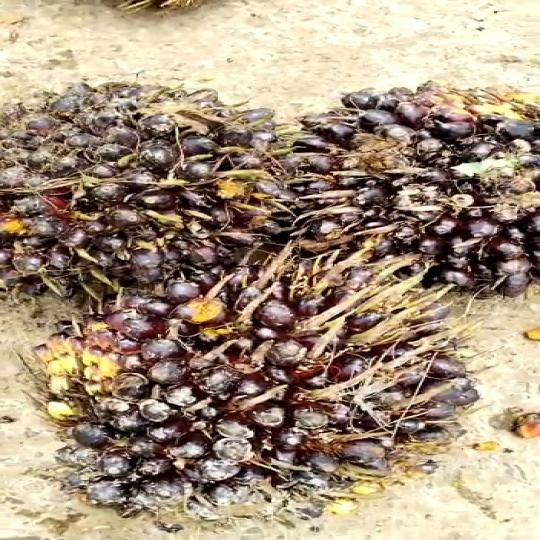mentah: (48, 241, 483, 522), (0, 58, 297, 301), (295, 76, 540, 304)
